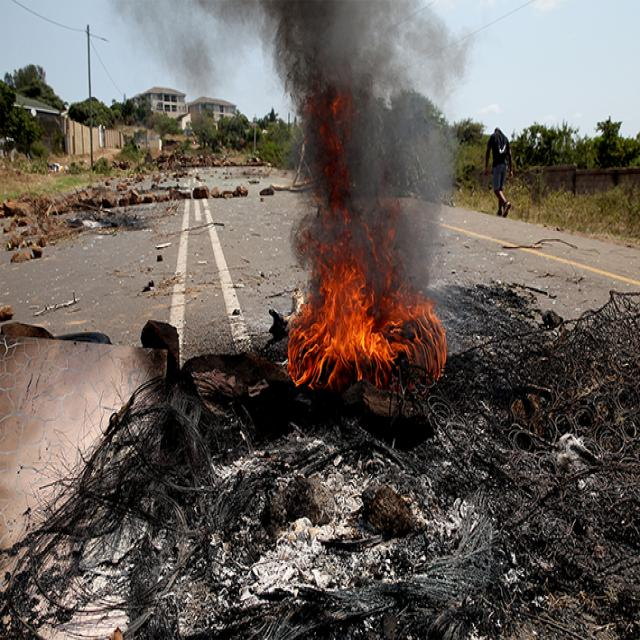fire: (286, 287, 448, 390)
smoke: (374, 5, 453, 247)
